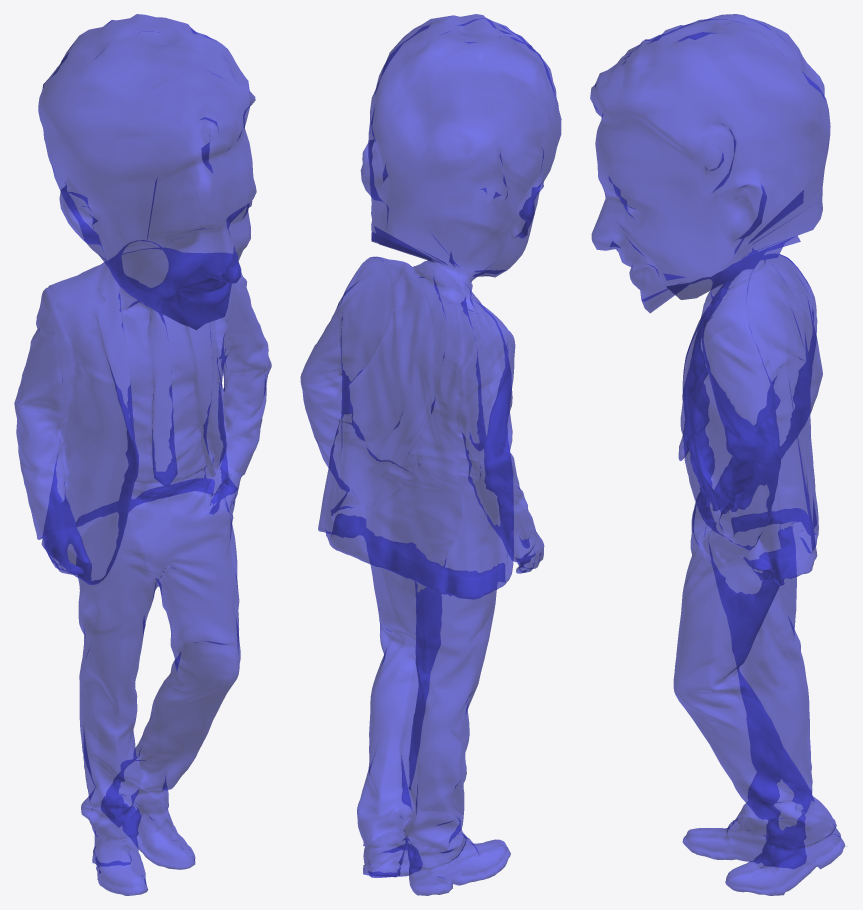
The model's file is bobCabeza.fbx.
3 views of the same model, side by side, from view 1: azimuth 30°, elevation 25°; view 2: azimuth 150°, elevation 25°; view 3: azimuth 270°, elevation 25° (orthographic). The views are drawn at different scales.
Parts seen in each view (by area): view 1: man2_170; view 2: man2_170; view 3: man2_170.
Boxes of the visible parts, <box> form: man2_170: <box>14,14,271,895</box>; man2_170: <box>300,14,561,895</box>; man2_170: <box>590,14,847,895</box>.
Bounding box in the file's own units: 0.48 × 1.7 × 0.4726.
